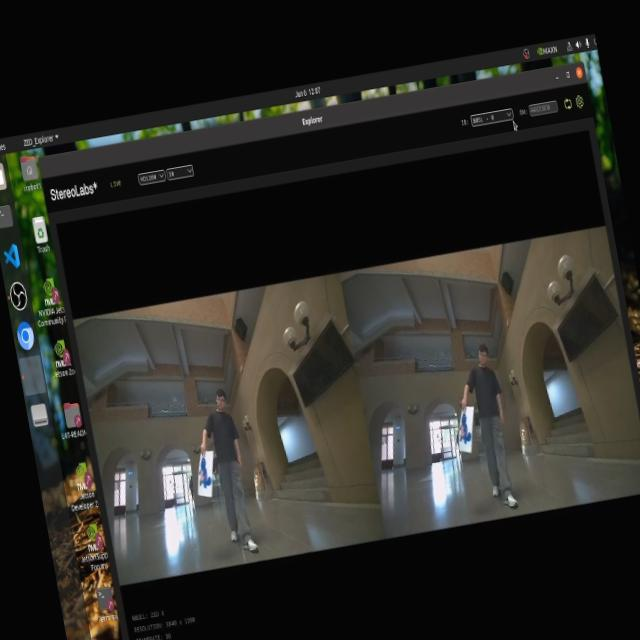blue: (451, 407, 478, 448), (193, 451, 213, 496)
